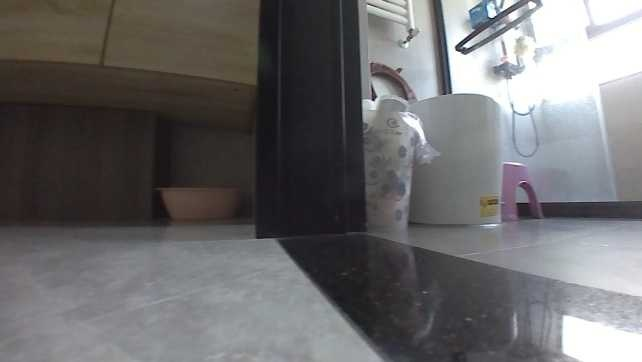door_sill: (277, 230, 640, 360)
toilet: (369, 56, 507, 230)
trash_can: (360, 94, 442, 230)
